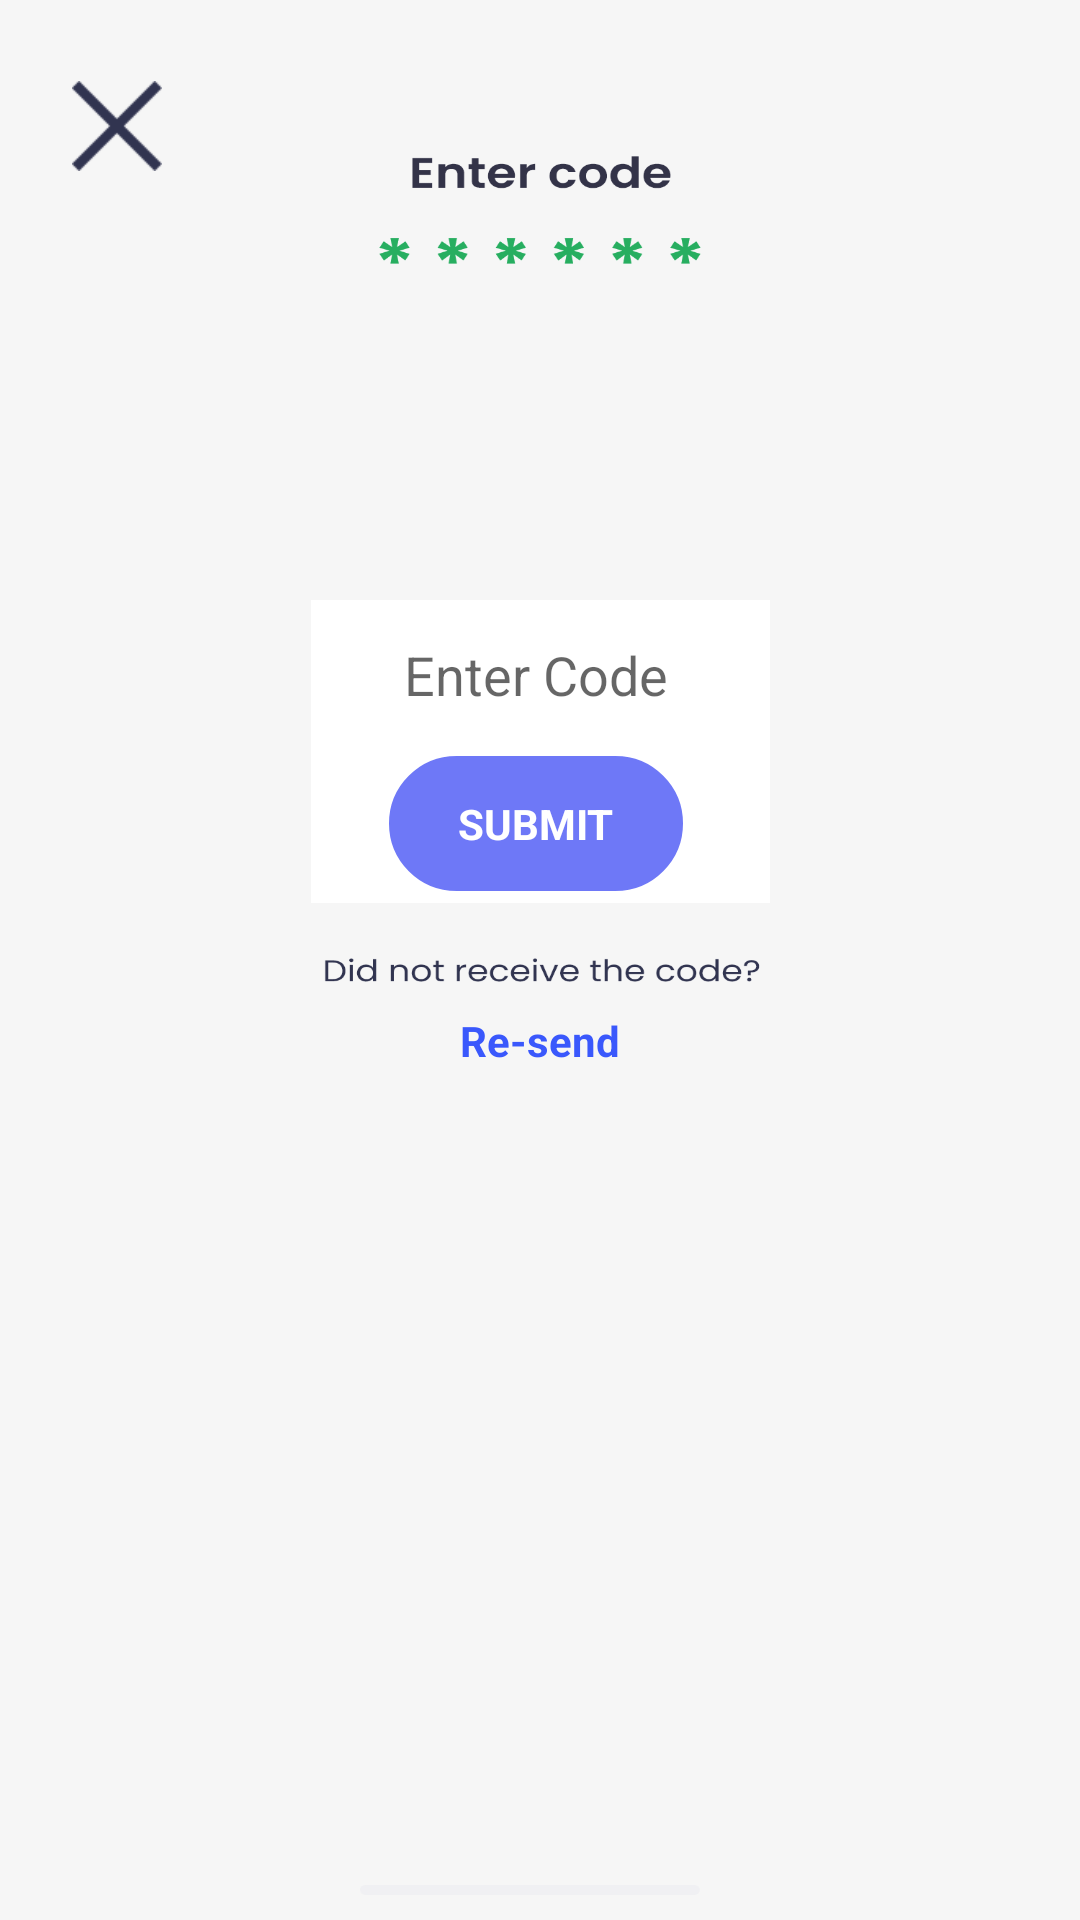

Screen size 1080px×1920px. Icon name, then its box in pixels as (x1, y1, x2, y2):
cross: (72, 81, 162, 171)
